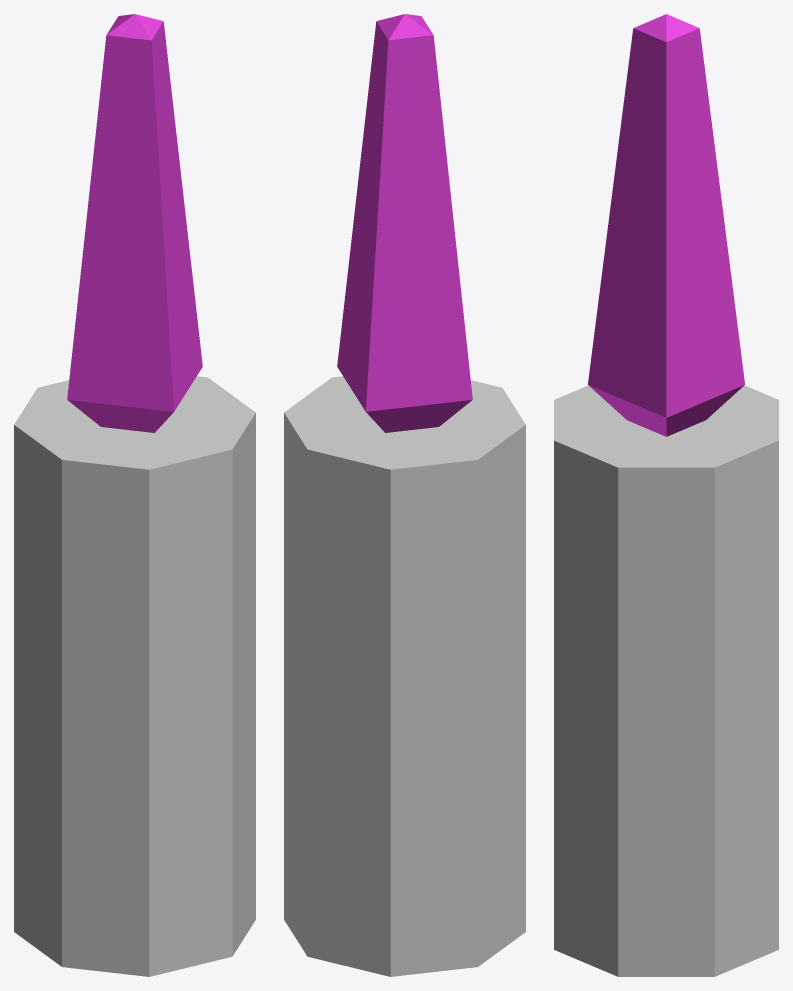
The model's file is obelisk_lod1.dae.
3 views of the same model, side by side, from view 1: azimuth 30°, elevation 25°; view 2: azimuth 150°, elevation 25°; view 3: azimuth 270°, elevation 25° (orthographic).
Parts seen in each view (by area): view 1: bld_base2_006; view 2: bld_base2_006; view 3: bld_base2_006.
Part boxes in pixels (<box>): bld_base2_006: <box>14,14,255,976</box>; bld_base2_006: <box>284,14,525,976</box>; bld_base2_006: <box>554,14,778,976</box>.
Bounding box in the file's own units: 20 × 20 × 89.89.
